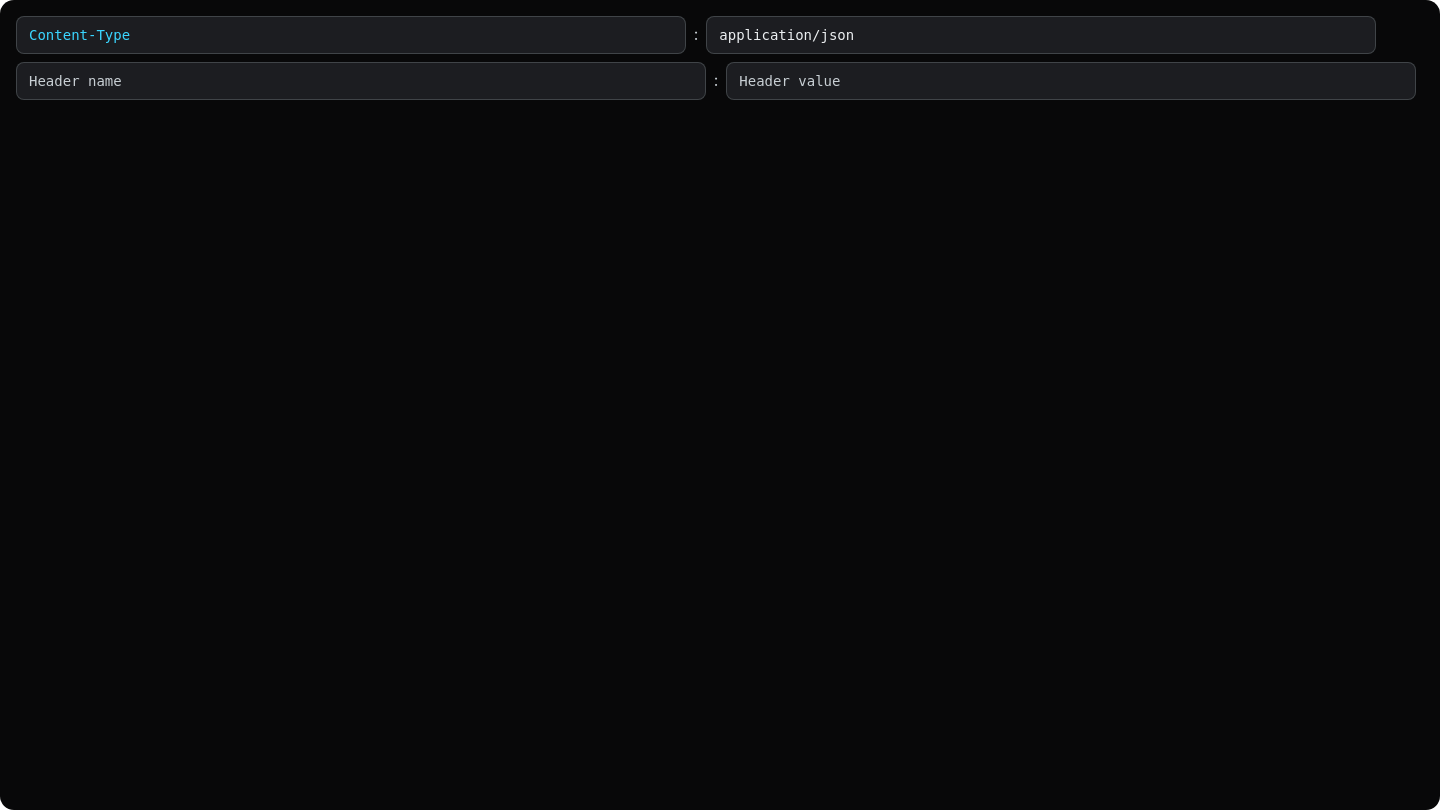
it: HeaderEditor › cancels editing existing header on Escape
The image size is (1440, 810).
Click the button with test id "header-row-0".
click(696, 35)  # box 16,16 -> 1376,54
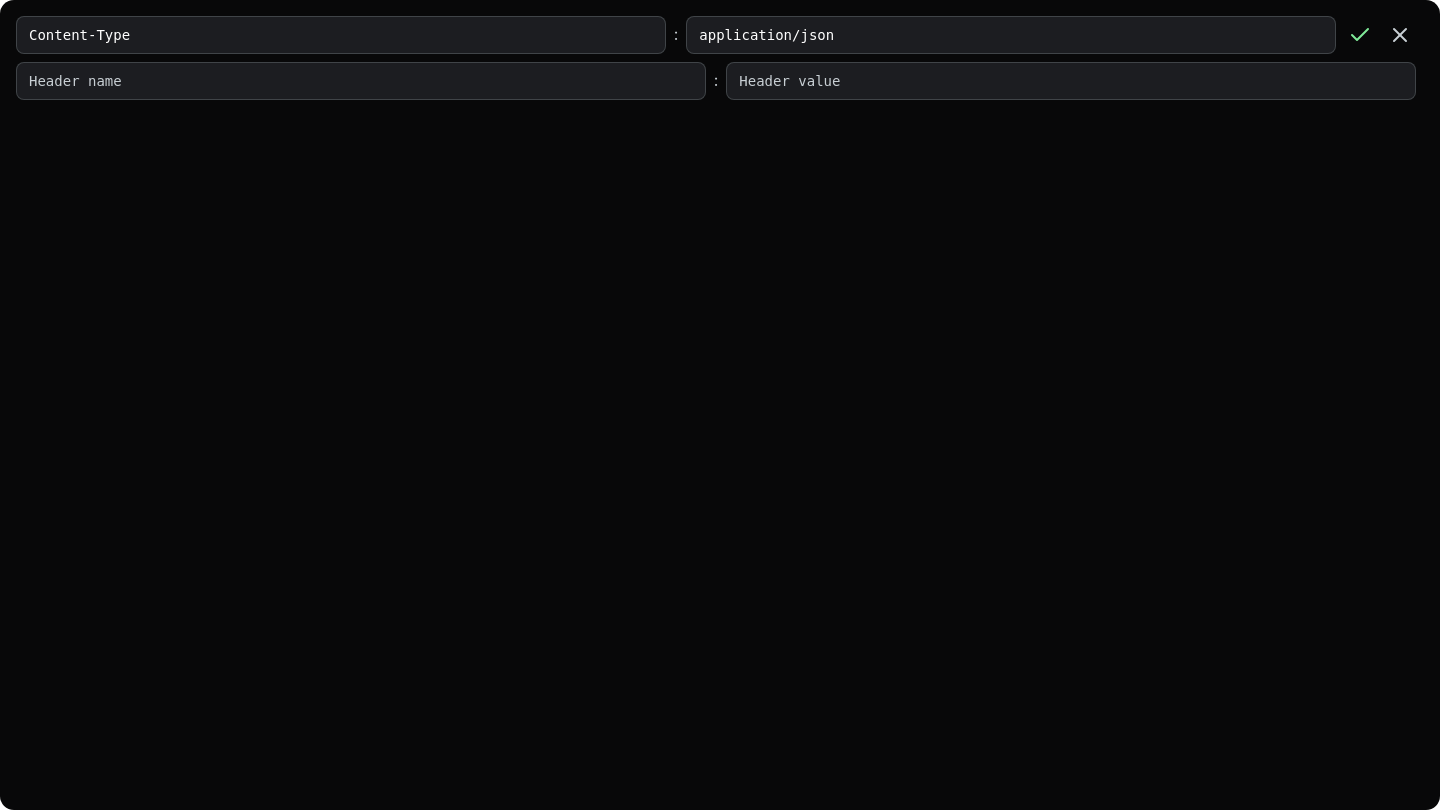
Check: the field with test id "header-key-input-0" is shown, box 16,16 -> 666,54
Press Escape
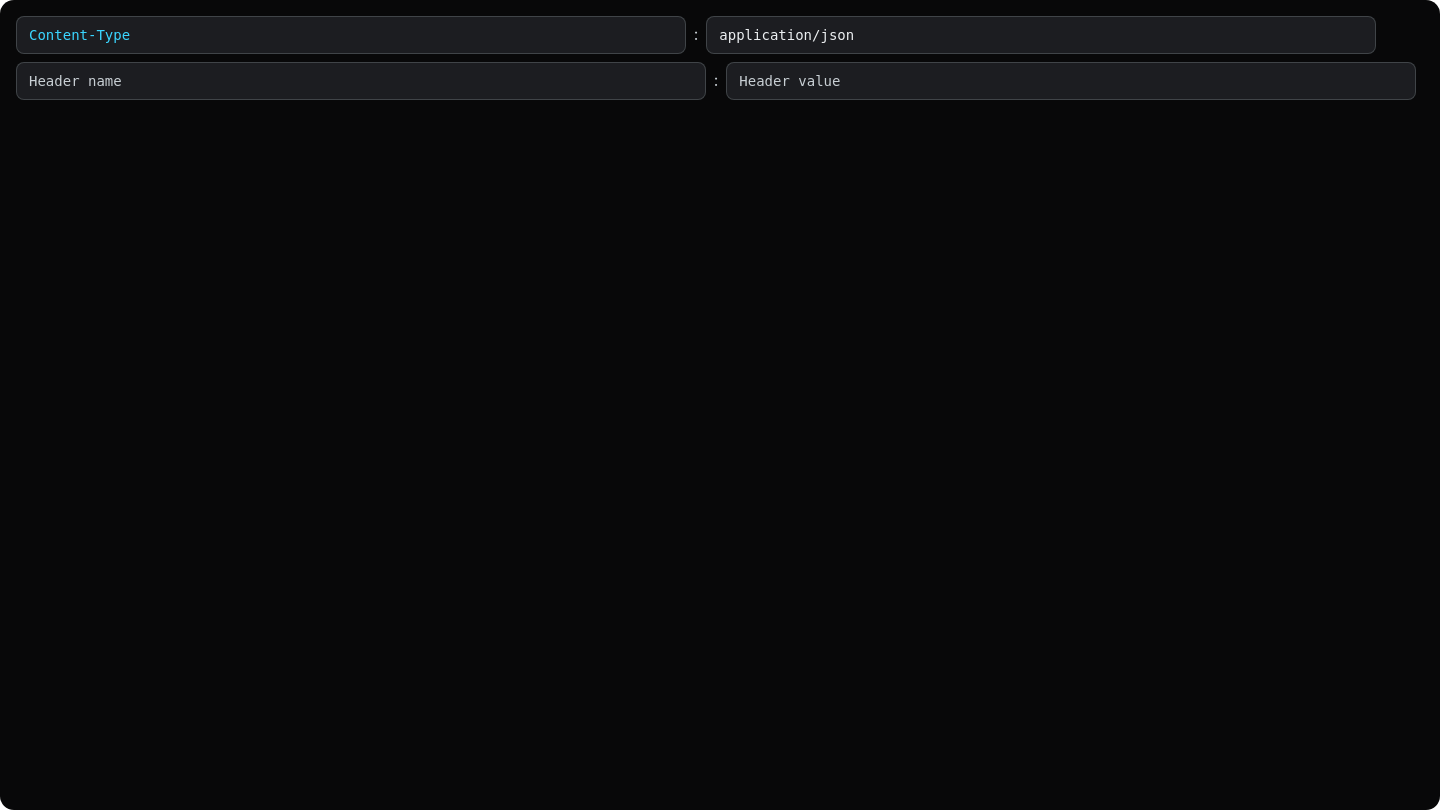
Check: the button with test id "header-row-0" is shown, box 16,16 -> 1376,54
Check: the field with test id "header-key-input-0" is gone
